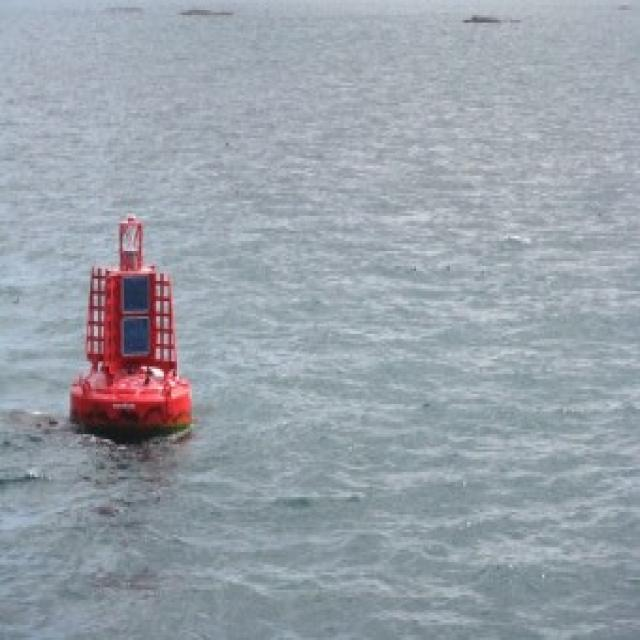buoy: (59, 145, 204, 464)
